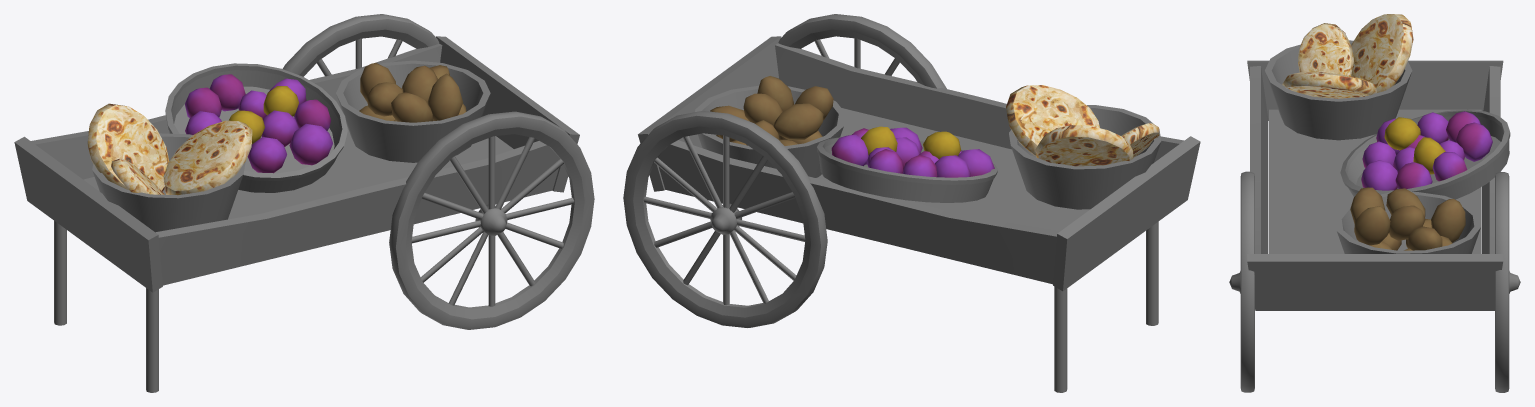
File: SM_cart_preset_05.fbx
3 renders of one model, left to right at view 1: azimuth 30°, elevation 25°; view 2: azimuth 150°, elevation 25°; view 3: azimuth 270°, elevation 25°, orthographic. The views are drawn at different scales.
Visible parts, largest first — view 1: Object33223; view 2: Object33223; view 3: Object33223.
Part boxes in pixels (bbox=[...]): Object33223: bbox=[14, 14, 594, 392]; Object33223: bbox=[623, 14, 1200, 392]; Object33223: bbox=[1229, 14, 1520, 392].
Bounding box in the file's own units: 80.92 × 41.21 × 48.11.
